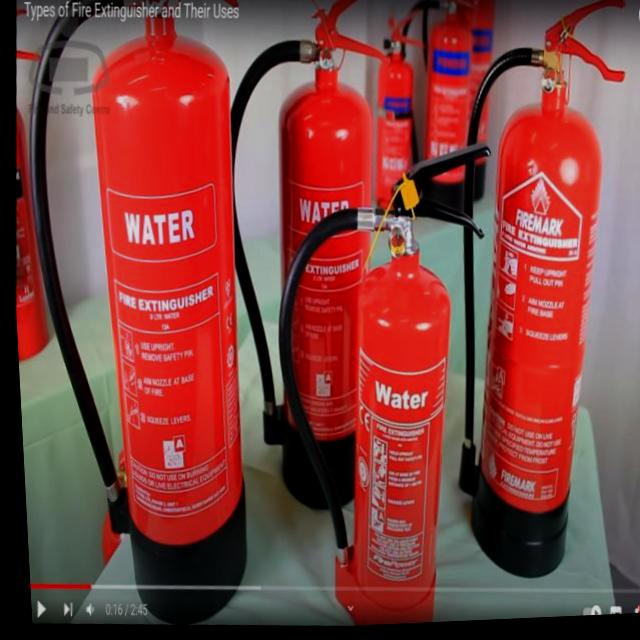FireExtinguisher: (0, 0, 278, 631), (248, 132, 510, 632), (425, 0, 640, 595), (184, 0, 416, 529), (375, 0, 487, 250), (0, 0, 71, 377), (359, 7, 431, 238)
